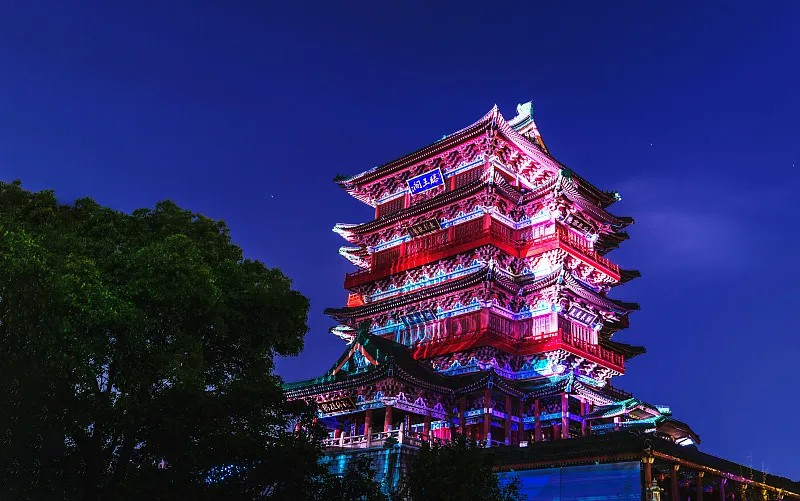Teng: (281, 101, 699, 448)
